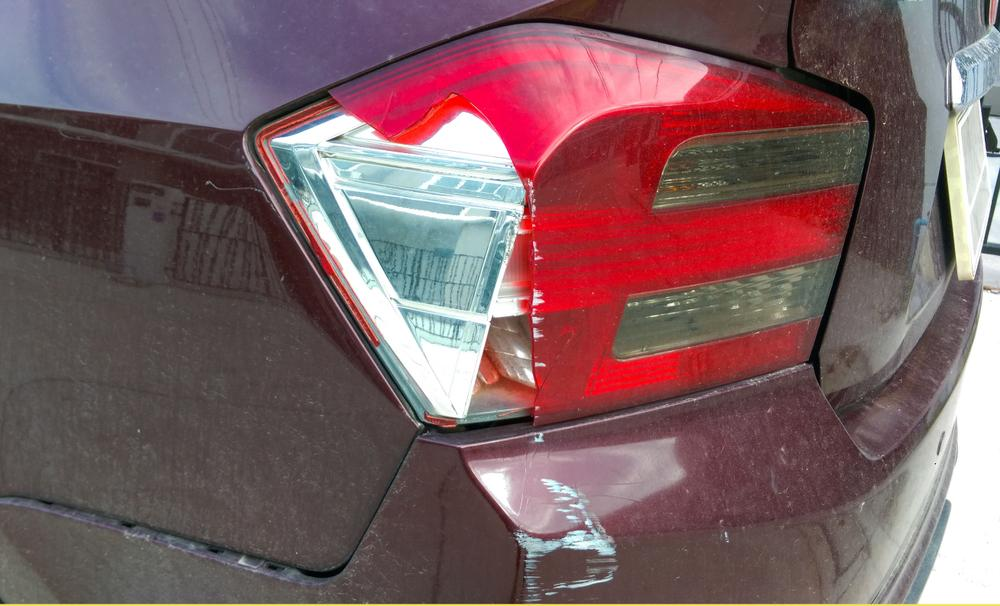lamp broken: (255, 20, 874, 432)
scratch: (511, 464, 626, 606)
